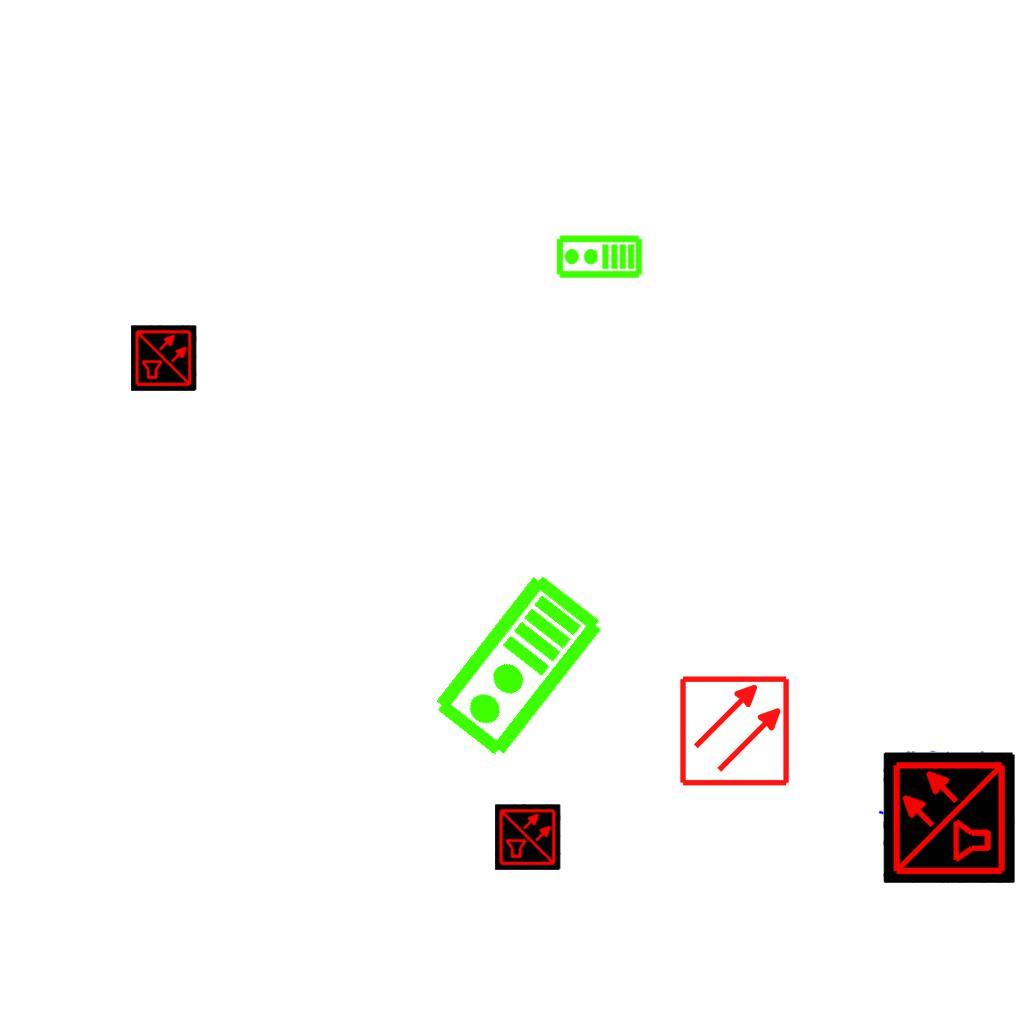Gegensprechanlage_mit_Video: (427, 568, 612, 766), (555, 234, 643, 281)
OKW_Multisensormelder_(Kombination_optischer_Rauch-Kahlenmonoxid_Waerme-Melder): (883, 751, 1015, 883), (495, 804, 561, 870), (131, 325, 197, 391)
RMO_Rauchmelder_optischer: (678, 674, 791, 787)
Wechselschalter: (868, 747, 946, 819)
